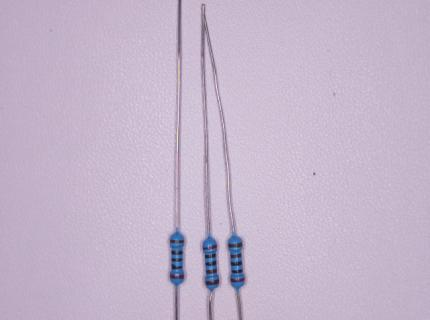Black band: (171, 264, 182, 269), (205, 253, 216, 258), (231, 261, 242, 266), (206, 261, 216, 266), (231, 269, 243, 273), (172, 251, 183, 255), (172, 258, 182, 262)
Brown band: (206, 279, 219, 285), (228, 242, 243, 247), (170, 239, 184, 243), (231, 253, 242, 258), (206, 269, 217, 273)
Red band: (203, 244, 217, 250), (230, 277, 245, 282), (170, 275, 183, 279)
